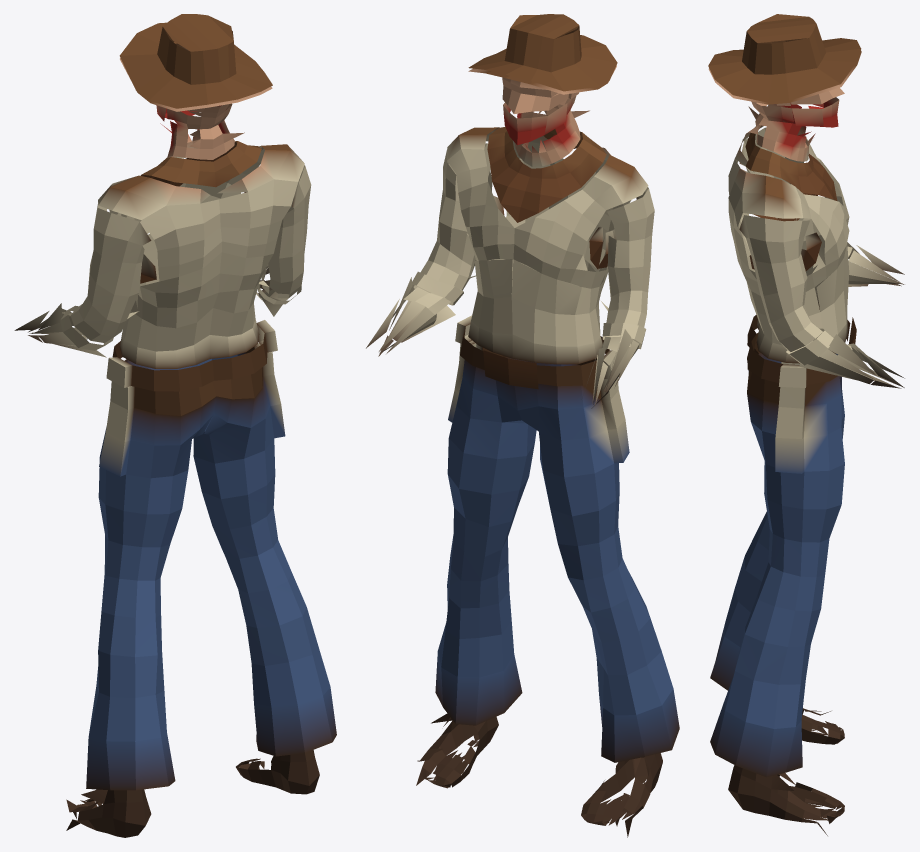
The model's file is man_0_w0.fbx.
The picture shows the model from 3 angles, left to right: view 1: azimuth 30°, elevation 25°; view 2: azimuth 150°, elevation 25°; view 3: azimuth 270°, elevation 25°; orthographic projection. The views are drawn at different scales.
Parts seen in each view (by area): view 1: cowboy; view 2: cowboy; view 3: cowboy.
Part boxes in pixels (x1,y1,x2,y2): cowboy: (14,14,336,837); cowboy: (366,14,679,837); cowboy: (708,14,904,835).
Size of the model in its own units: 0.328 by 1.03 by 0.2409.
